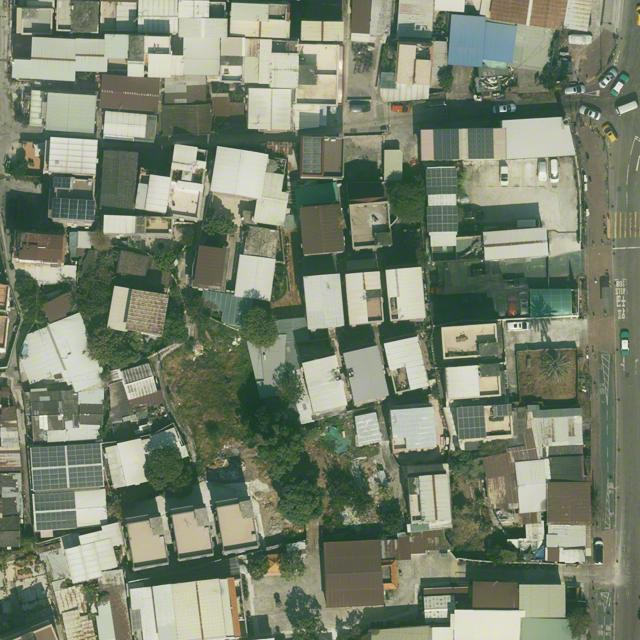panel: (32, 443, 104, 491), (34, 492, 77, 530), (52, 198, 96, 221), (458, 406, 486, 440), (426, 206, 457, 232), (434, 129, 459, 160), (427, 169, 458, 194), (468, 129, 494, 158), (302, 137, 322, 173), (54, 178, 71, 188), (497, 405, 509, 416)
